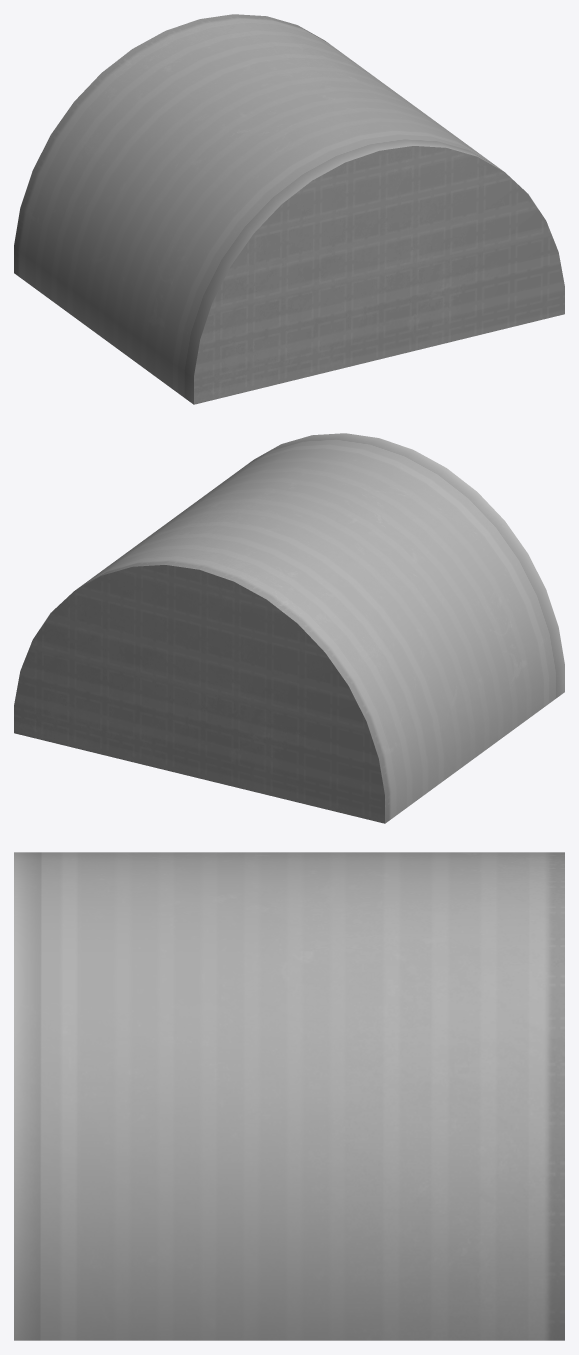
The model's file is outcrop.fbx.
3 views of the same model, one above another, from view 1: azimuth 30°, elevation 25°; view 2: azimuth 150°, elevation 25°; view 3: azimuth 270°, elevation 25° (orthographic). The views are drawn at different scales.
Visible parts, largest first — view 1: pCylinder19; view 2: pCylinder19; view 3: pCylinder19.
Boxes of the visible parts, bbox=[...] form: pCylinder19: bbox=[14, 14, 564, 404]; pCylinder19: bbox=[14, 433, 564, 823]; pCylinder19: bbox=[14, 852, 564, 1340].
Size of the model in its own units: 480 by 258 by 403.
